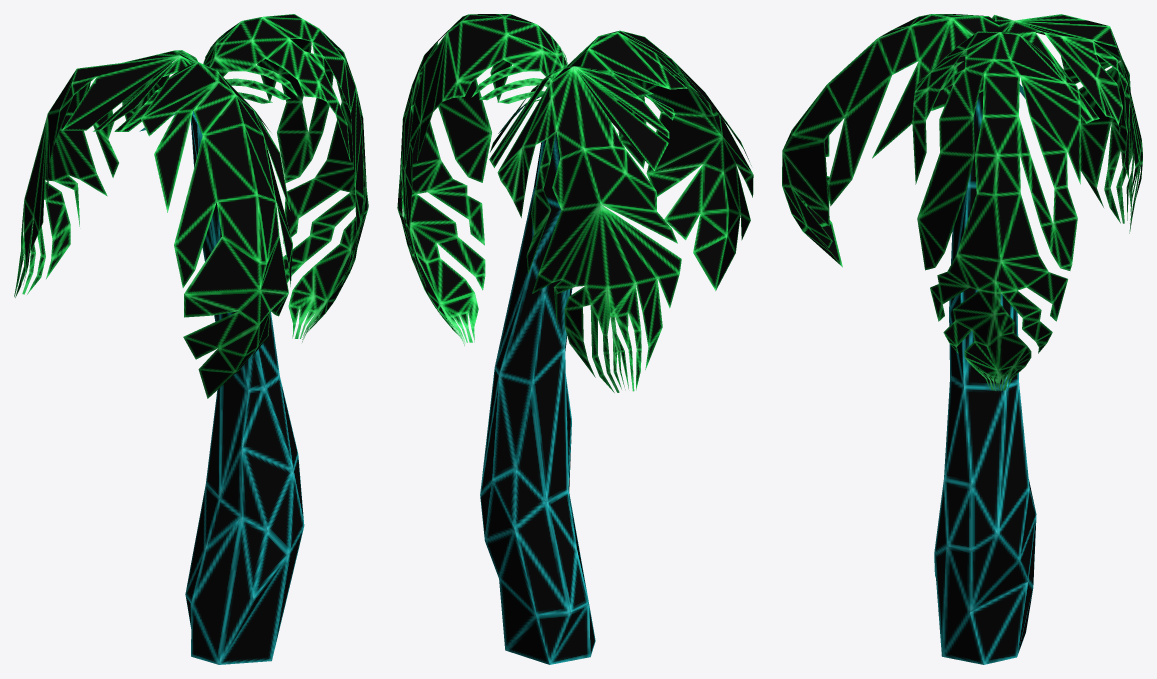
The model's file is palm6.FBX.
3 renders of one model, left to right at view 1: azimuth 30°, elevation 25°; view 2: azimuth 150°, elevation 25°; view 3: azimuth 270°, elevation 25°, orthographic. The views are drawn at different scales.
Visible parts, largest first — view 1: palm6; view 2: palm6; view 3: palm6.
Part boxes in pixels (<box>): palm6: <box>14,14,368,664</box>; palm6: <box>397,14,753,664</box>; palm6: <box>782,14,1142,664</box>.
Bounding box in the file's own units: 7.07 × 7.19 × 13.94.
